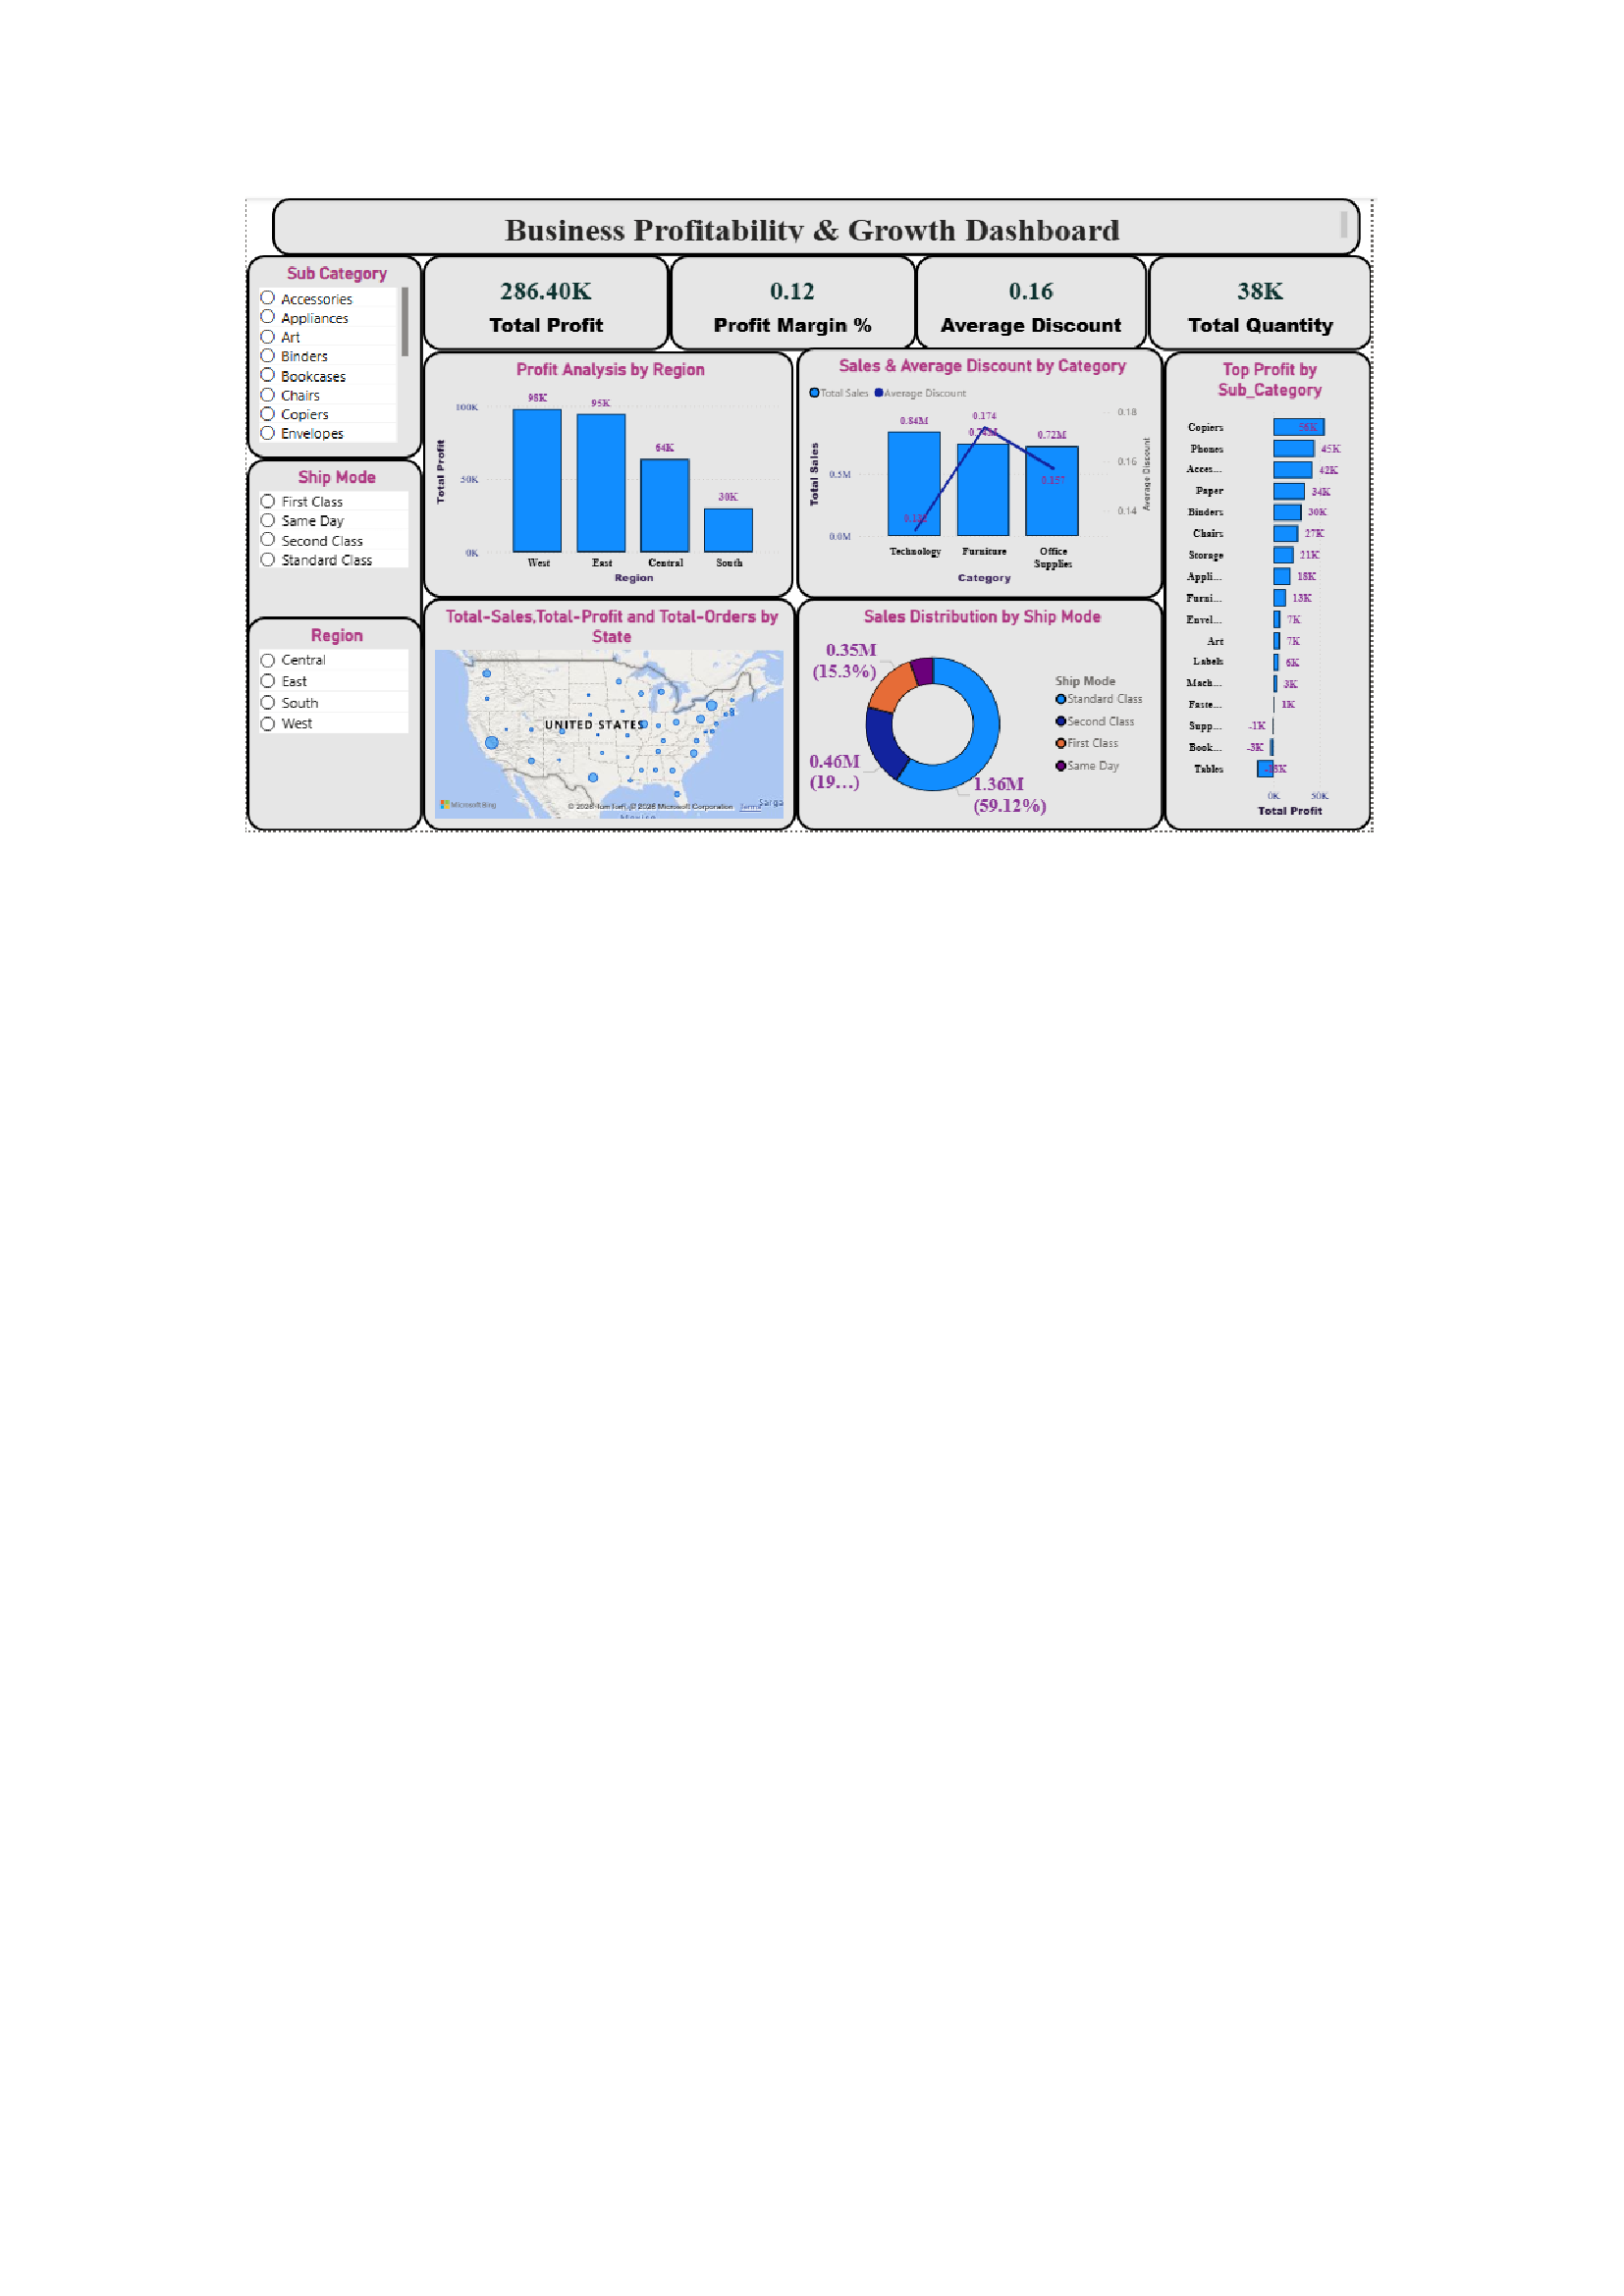

The dashboard page shown, as its layout file describes it:
{"tool":"powerbi","page":{"name":"Profitability & Growth Analysis","canvas":[1280,720],"ordinal":3},"visuals":[{"type":"listSlicer","fields":{"Values":["Product_Dim.Sub Category"]},"box":[0,65.5,199.9,231.8],"z":1},{"type":"listSlicer","fields":{"Values":["Orders_Fact.Ship Mode"]},"box":[0,297.3,199.9,231.8],"z":2},{"type":"listSlicer","fields":{"Values":["Orders_Fact.Region"]},"box":[0,477.1,199.9,243.6],"z":3},{"type":"card","fields":{"Values":["DAX Measures.Total Profit"]},"box":[199.9,65.5,280.5,109.2],"z":4},{"type":"card","fields":{"Values":["DAX Measures.Profit Margin %"]},"box":[480.4,65.5,280.5,109.2],"z":5},{"type":"card","fields":{"Values":["DAX Measures.Average Discount"]},"box":[760.9,65.5,263.7,109.2],"z":6},{"type":"clusteredColumnChart","title":"Profit Analysis by Region","fields":{"Category":["Customer_Dim.Region"],"Y":["DAX Measures.Total Profit"]},"box":[199.9,174.7,421.6,280.5],"z":7},{"type":"lineClusteredColumnComboChart","title":"Sales & Average Discount by Category","fields":{"Category":["Product_Dim.Category"],"Y":["DAX Measures.Total Sales"],"Y2":["DAX Measures.Average Discount"]},"box":[624.9,169.7,418.3,285.6],"z":8},{"type":"clusteredBarChart","title":"Top Profit by Sub_Category","fields":{"Category":["Product_Dim.Sub Category"],"Y":["DAX Measures.Total Profit"]},"box":[1043.1,174.7,236.9,545.9],"z":9},{"type":"donutChart","title":"Sales Distribution by Ship Mode","fields":{"Category":["Orders_Fact.Ship Mode"],"Y":["DAX Measures.Total Sales"]},"box":[624.9,455.2,418.3,265.4],"z":10},{"type":"map","title":"Total-Sales,Total-Profit and Total-Orders by State","fields":{"Category":["Customer_Dim.State"],"Size":["DAX Measures.Total Sales"]},"box":[199.9,455.2,425,265.4],"z":11},{"type":"card","fields":{"Values":["DAX Measures.Total Quantity"]},"box":[1024.7,65.5,255.3,109.2],"z":12},{"type":"textbox","box":[28.6,0,1238,65.5],"z":13}]}

Visuals, with their boxes on the page's 1280x720 design canvas (x1, y1, x2, y2). These are canvas units, not pixel positions in the 1624x2296 screenshot, which may show the page scaled, cropped or inside an application window:
listSlicer - Product_Dim.Sub Category: 0:66:200:297
listSlicer - Orders_Fact.Ship Mode: 0:297:200:529
listSlicer - Orders_Fact.Region: 0:477:200:721
card - DAX Measures.Total Profit: 200:66:480:175
card - DAX Measures.Profit Margin %: 480:66:761:175
card - DAX Measures.Average Discount: 761:66:1025:175
"Profit Analysis by Region" clusteredColumnChart: 200:175:622:455
"Sales & Average Discount by Category" lineClusteredColumnComboChart: 625:170:1043:455
"Top Profit by Sub_Category" clusteredBarChart: 1043:175:1280:721
"Sales Distribution by Ship Mode" donutChart: 625:455:1043:721
"Total-Sales,Total-Profit and Total-Orders by State" map: 200:455:625:721
card - DAX Measures.Total Quantity: 1025:66:1280:175
textbox: 29:0:1267:66
